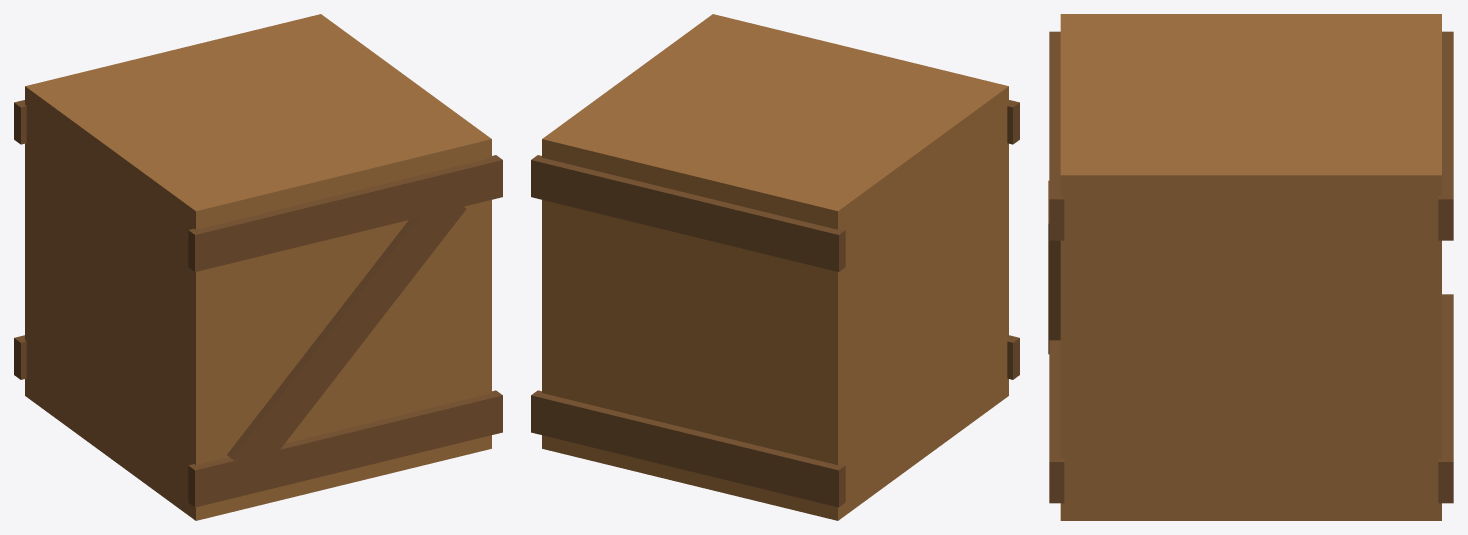
File: caisse.glb
The picture shows the model from 3 angles, left to right: view 1: azimuth 30°, elevation 25°; view 2: azimuth 150°, elevation 25°; view 3: azimuth 270°, elevation 25°; orthographic projection. The views are drawn at different scales.
Visible parts, largest first — view 1: Cube, Cube.005, Cube.003, Cube.001; view 2: Cube, Cube.004, Cube.002; view 3: Cube, Cube.002, Cube.003, Cube.004, Cube.001, Cube.005.
Boxes of the visible parts, box(x1,y1,x2,y2) form: Cube: box(25, 14, 491, 520); Cube.005: box(227, 189, 466, 478); Cube.003: box(188, 155, 502, 271); Cube.001: box(188, 390, 502, 507); Cube: box(542, 14, 1008, 520); Cube.004: box(531, 155, 845, 271); Cube.002: box(531, 390, 845, 507); Cube: box(1060, 14, 1441, 520); Cube.002: box(1438, 294, 1453, 503); Cube.003: box(1049, 31, 1064, 240); Cube.004: box(1438, 31, 1453, 240); Cube.001: box(1049, 340, 1064, 503); Cube.005: box(1048, 180, 1060, 354).
Size of the model in its own units: 0.52 by 0.5 by 0.531.
